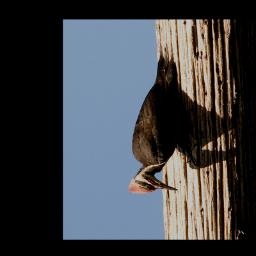Woodpecker: (127, 48, 199, 194)
